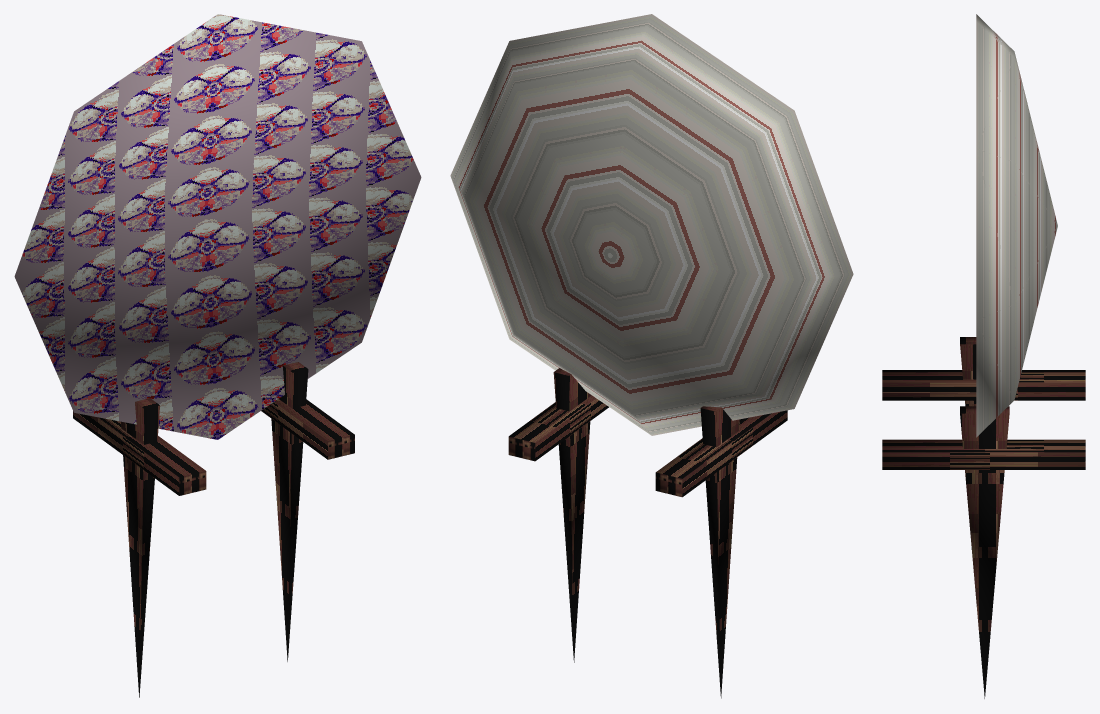
The model's file is 3544IMOT01_17.gltf.
3 views of the same model, side by side, from view 1: azimuth 30°, elevation 25°; view 2: azimuth 150°, elevation 25°; view 3: azimuth 270°, elevation 25° (orthographic). The views are drawn at different scales.
Visible parts, largest first — view 1: 3544IMOT01_17; view 2: 3544IMOT01_17; view 3: 3544IMOT01_17.
Boxes of the visible parts, bbox=[...] form: 3544IMOT01_17: bbox=[14, 14, 421, 697]; 3544IMOT01_17: bbox=[450, 14, 853, 698]; 3544IMOT01_17: bbox=[882, 14, 1085, 698].
Bounding box in the file's own units: 0.876 × 1.38 × 0.3955.
Materials: 3 (3 with a texture image).
